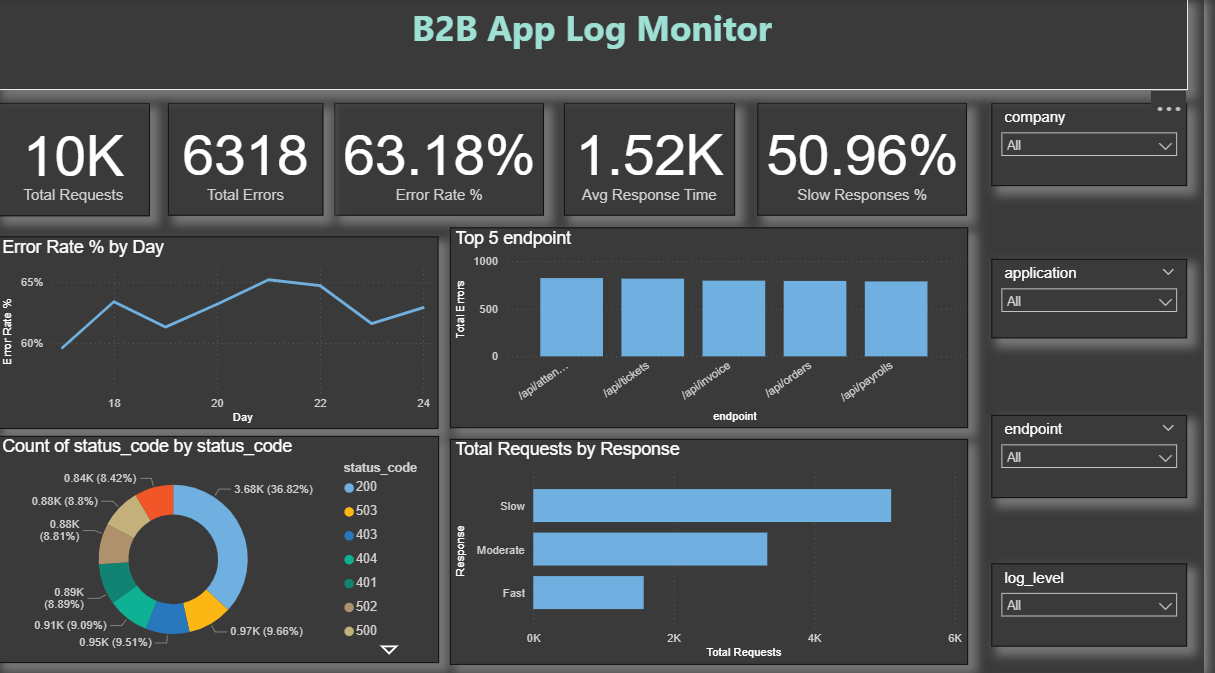

The dashboard page shown, as its layout file describes it:
{"tool":"powerbi","page":{"name":"Page 1","canvas":[1280,720],"ordinal":0},"visuals":[{"type":"card","fields":{"Values":["b2b_logs.Total Requests"]},"box":[0,111.7,161.9,119.8],"z":0},{"type":"card","fields":{"Values":["b2b_logs.Error Rate %"]},"box":[358.6,112.1,222.3,119.5],"z":1000},{"type":"card","fields":{"Values":["b2b_logs.Avg Response Time"]},"box":[601.4,112.1,181.2,119.5],"z":2000},{"type":"card","fields":{"Values":["b2b_logs.Slow Responses %"]},"box":[806.9,112.1,222.3,119.5],"z":3000},{"type":"lineChart","fields":{"Category":["b2b_logs.timestamp.Variation.Date Hierarchy.Day"],"Y":["b2b_logs.Error Rate %"]},"box":[0,252.6,468,204],"z":4000},{"type":"card","fields":{"Values":["b2b_logs.Total Errors"]},"box":[181.2,112.1,164.4,119.5],"z":5000},{"type":"columnChart","title":"Top 5 endpoint","fields":{"Category":["b2b_logs.endpoint"],"Y":["b2b_logs.Total Errors"]},"box":[480,242.8,549.1,212.9],"z":6000},{"type":"donutChart","fields":{"Y":["CountNonNull(b2b_logs.status_code)"],"Category":["b2b_logs.status_code"]},"box":[0,465.1,468.8,240.9],"z":7000},{"type":"barChart","fields":{"Y":["b2b_logs.Total Requests"],"Category":["b2b_logs.Response"]},"box":[480,466.9,549.1,239.1],"z":8000},{"type":"slicer","fields":{"Values":["b2b_logs.company"]},"box":[1055.3,112.1,207.3,87.8],"z":9000},{"type":"slicer","fields":{"Values":["b2b_logs.application"]},"box":[1055.3,276.4,207.3,84],"z":10000},{"type":"slicer","fields":{"Values":["b2b_logs.endpoint"]},"box":[1055.3,442.6,207.3,87.8],"z":11000},{"type":"slicer","fields":{"Values":["b2b_logs.log_level"]},"box":[1055.3,599.5,207.3,87.8],"z":12000},{"type":"textbox","box":[0,0,1262.6,97.1],"z":12001}]}

Visuals, with their boxes in screenshot pixels (x1, y1, x2, y2), scaled from the page's 1280x720 canvas onto the 1215x673 screenshot:
card - b2b_logs.Total Requests: detection(0, 104, 154, 216)
card - b2b_logs.Error Rate %: detection(340, 105, 551, 216)
card - b2b_logs.Avg Response Time: detection(571, 105, 743, 216)
card - b2b_logs.Slow Responses %: detection(766, 105, 977, 216)
lineChart - b2b_logs.timestamp.Variation.Date Hierarchy.Day x b2b_logs.Error Rate %: detection(0, 236, 444, 427)
card - b2b_logs.Total Errors: detection(172, 105, 328, 216)
"Top 5 endpoint" columnChart: detection(456, 227, 977, 426)
donutChart - CountNonNull(b2b_logs.status_code) x b2b_logs.status_code: detection(0, 435, 445, 660)
barChart - b2b_logs.Total Requests x b2b_logs.Response: detection(456, 436, 977, 660)
slicer - b2b_logs.company: detection(1002, 105, 1198, 187)
slicer - b2b_logs.application: detection(1002, 258, 1198, 337)
slicer - b2b_logs.endpoint: detection(1002, 414, 1198, 496)
slicer - b2b_logs.log_level: detection(1002, 560, 1198, 642)
textbox: detection(0, 0, 1198, 91)
